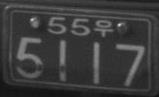1: (49, 39, 77, 82), (83, 41, 110, 84)
5: (15, 36, 44, 79), (47, 15, 67, 35), (70, 17, 91, 36)
7: (114, 43, 145, 87)
우: (93, 18, 114, 37)
